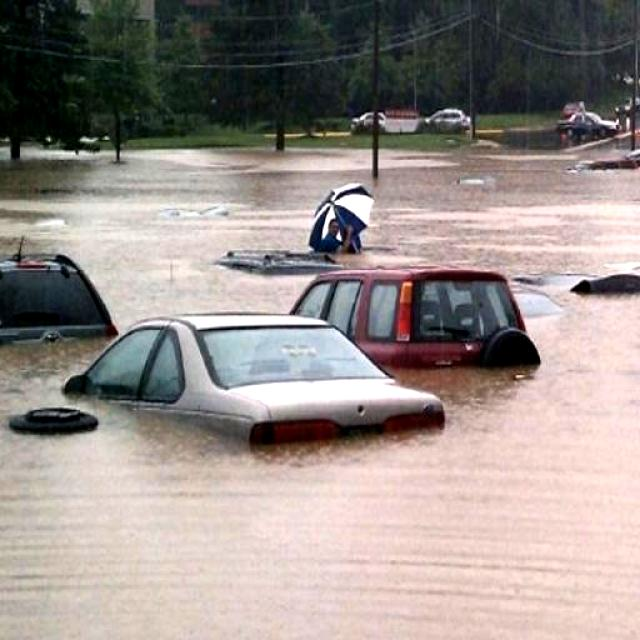civilian: (311, 210, 368, 264)
